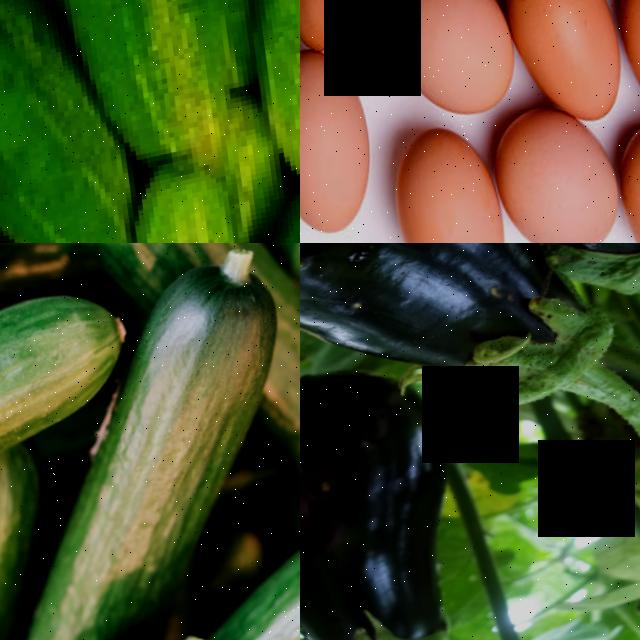cucumber: (84, 267, 300, 615), (0, 286, 150, 544), (69, 0, 242, 196), (0, 0, 88, 243), (235, 0, 300, 206), (47, 243, 244, 310), (121, 159, 261, 243)
egg_: (490, 106, 625, 243), (383, 0, 521, 134), (503, 0, 629, 146), (300, 42, 382, 243), (384, 122, 513, 243), (300, 0, 404, 64)
eggplant: (300, 345, 480, 640), (300, 243, 510, 421), (468, 243, 640, 321)
